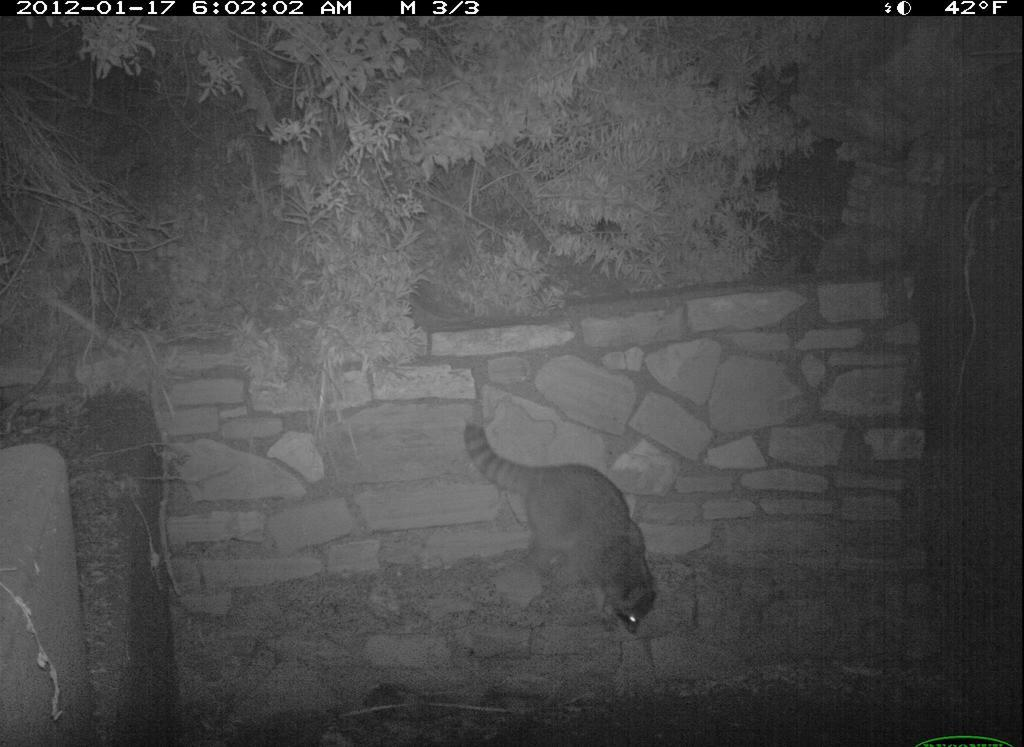raccoon: (445, 399, 666, 646)
